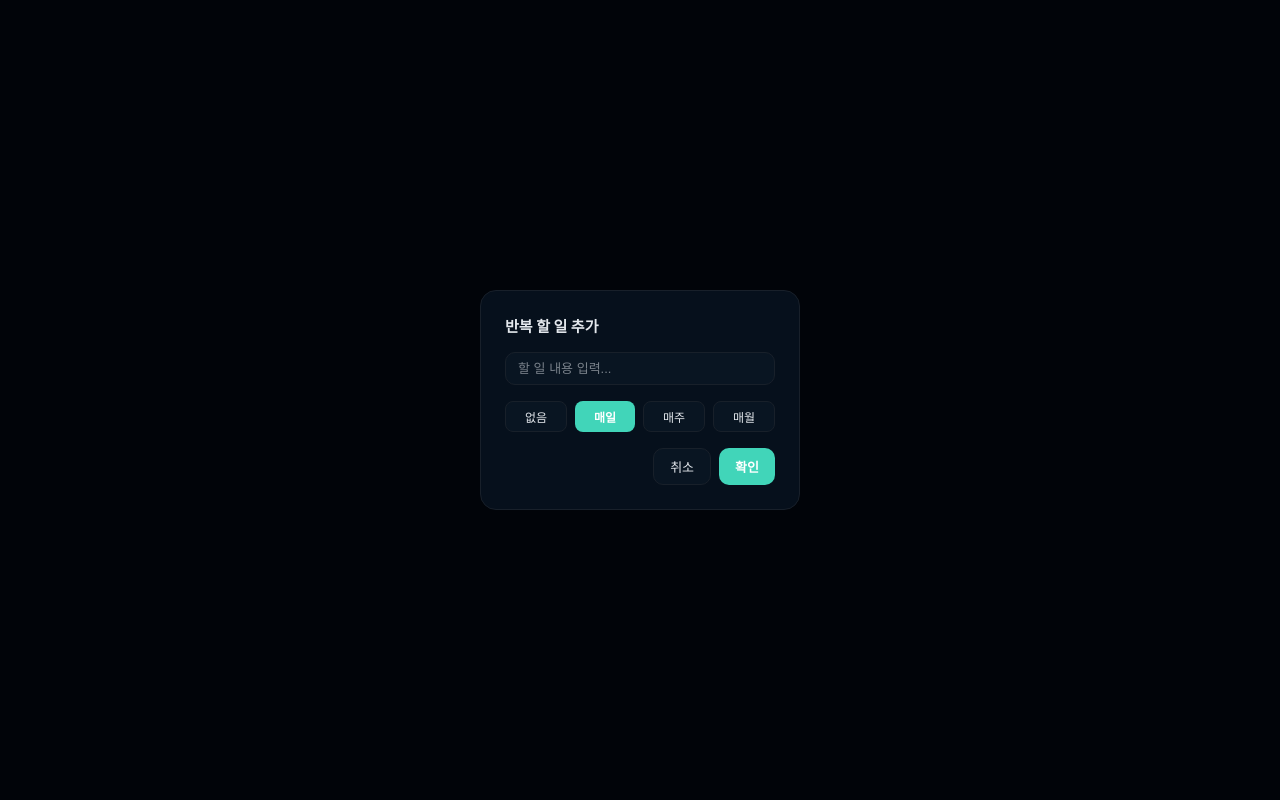
Test: RecurrenceModal › 매월 선택 시 날짜 입력을 표시한다
The image size is (1280, 800).
Click the button "매월" at (744, 416), box [713,401,775,432]
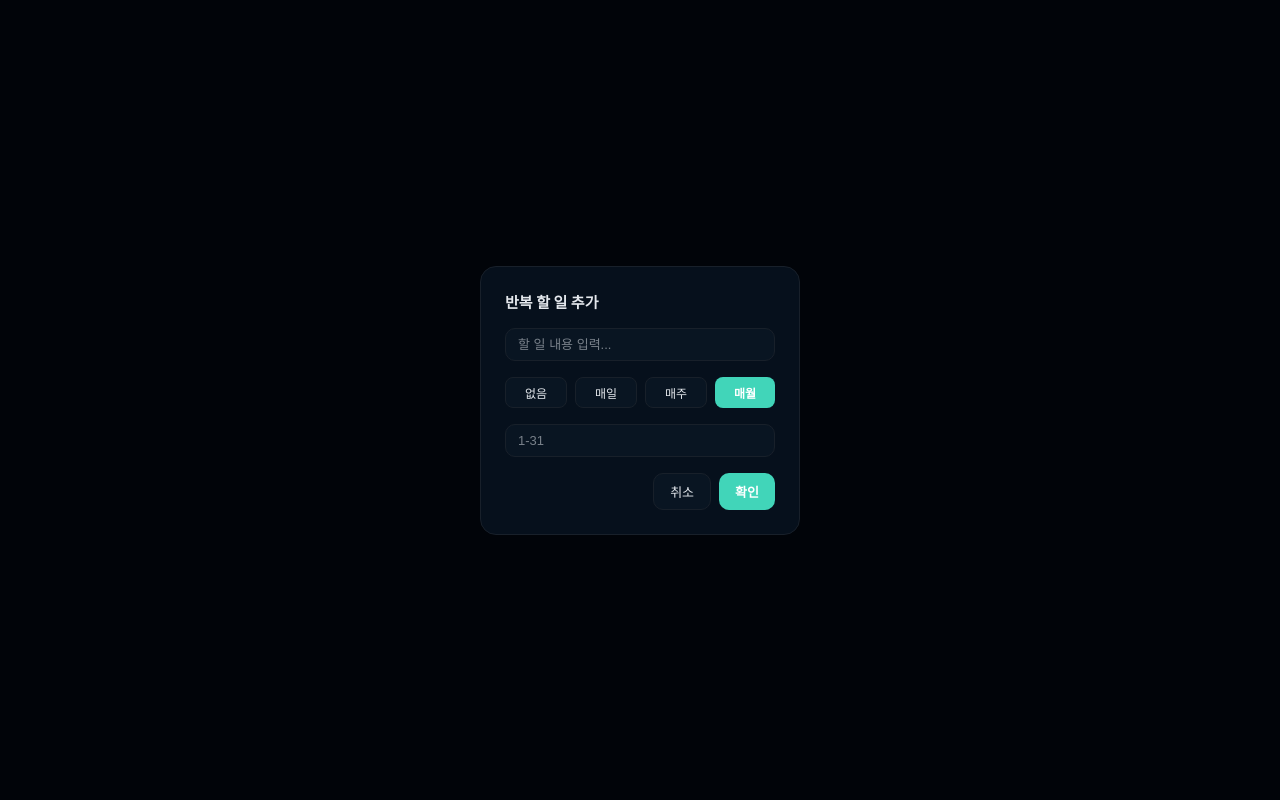
Now the number field with placeholder "1-31" is shown, box [505,424,775,456]
